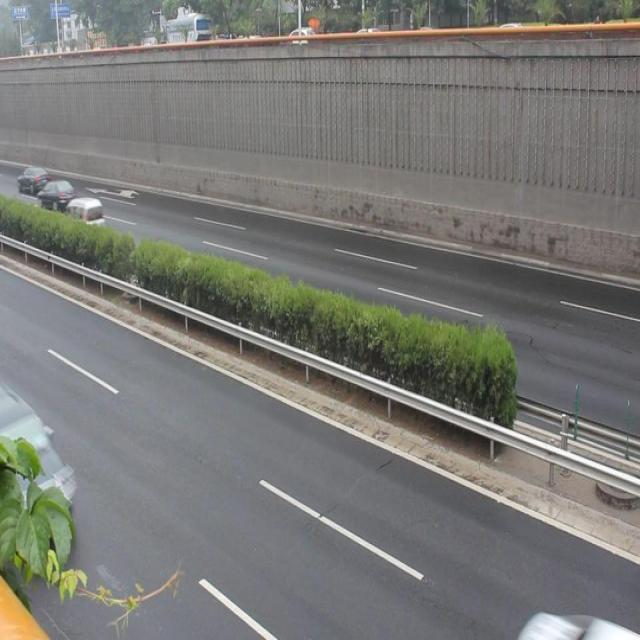car: (0, 387, 84, 543)
truck: (65, 191, 107, 233)
